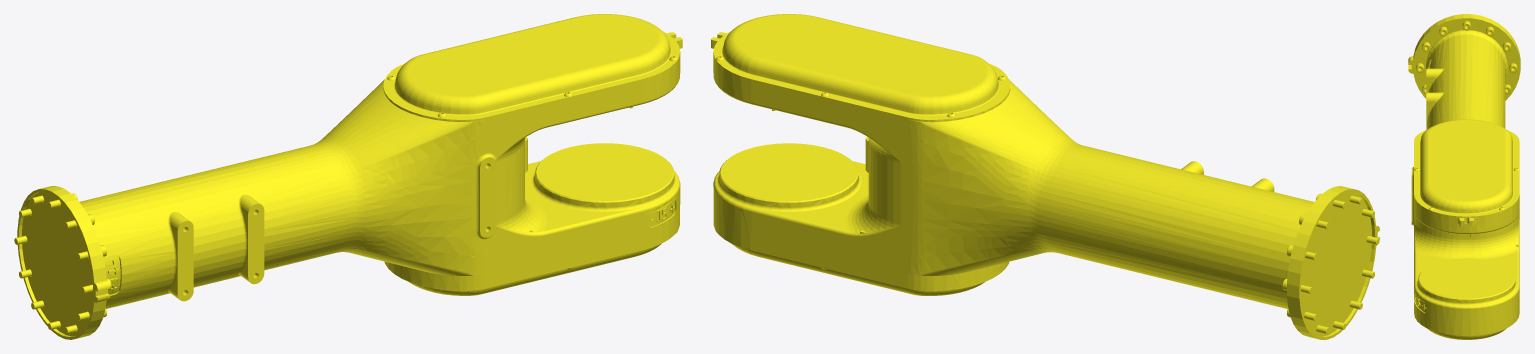
The picture shows the model from 3 angles, left to right: view 1: azimuth 30°, elevation 25°; view 2: azimuth 150°, elevation 25°; view 3: azimuth 270°, elevation 25°; orthographic projection. The views are drawn at different scales.
Visible parts, largest first — view 1: /Link4/Link4-mesh/0; view 2: /Link4/Link4-mesh/0; view 3: /Link4/Link4-mesh/0.
Part boxes in pixels (<box>): /Link4/Link4-mesh/0: <box>14,14,682,339</box>; /Link4/Link4-mesh/0: <box>711,14,1379,339</box>; /Link4/Link4-mesh/0: <box>1408,14,1520,339</box>.
Bounding box in the file's own units: 0.6245 × 0.1885 × 0.1383.
